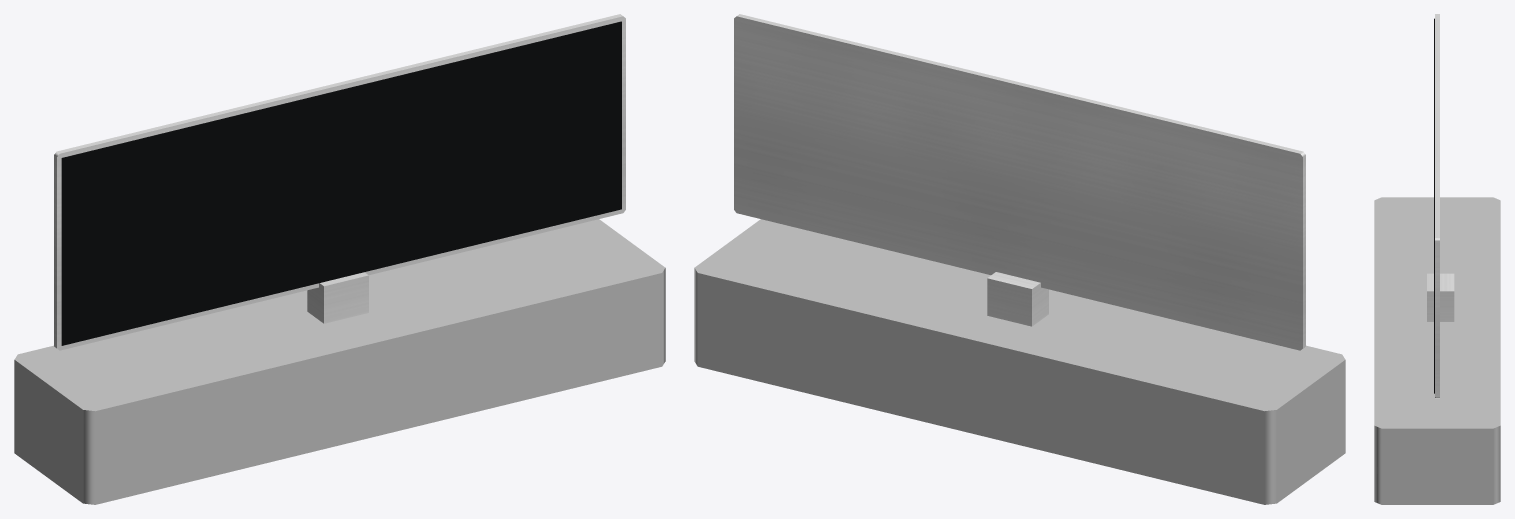
The model's file is tv_flat.obj.
3 views of the same model, side by side, from view 1: azimuth 30°, elevation 25°; view 2: azimuth 150°, elevation 25°; view 3: azimuth 270°, elevation 25° (orthographic). The views are drawn at different scales.
Visible parts, largest first — view 1: planar_screen, tv_console, screen_bezel, screen_support; view 2: screen_bezel, tv_console, screen_support; view 3: tv_console, screen_bezel, screen_support, planar_screen.
Boxes of the visible parts, <box> form: planar_screen: <box>61,21,621,345</box>; tv_console: <box>14,219,665,504</box>; screen_bezel: <box>54,14,625,350</box>; screen_support: <box>307,272,368,323</box>; screen_bezel: <box>734,14,1305,350</box>; tv_console: <box>694,219,1345,504</box>; screen_support: <box>987,272,1048,326</box>; tv_console: <box>1374,197,1500,504</box>; screen_bezel: <box>1435,14,1439,398</box>; screen_support: <box>1427,273,1454,321</box>; planar_screen: <box>1434,18,1434,393</box>.
Bounding box in the file's own units: 2.6 × 1.38 × 0.6.
